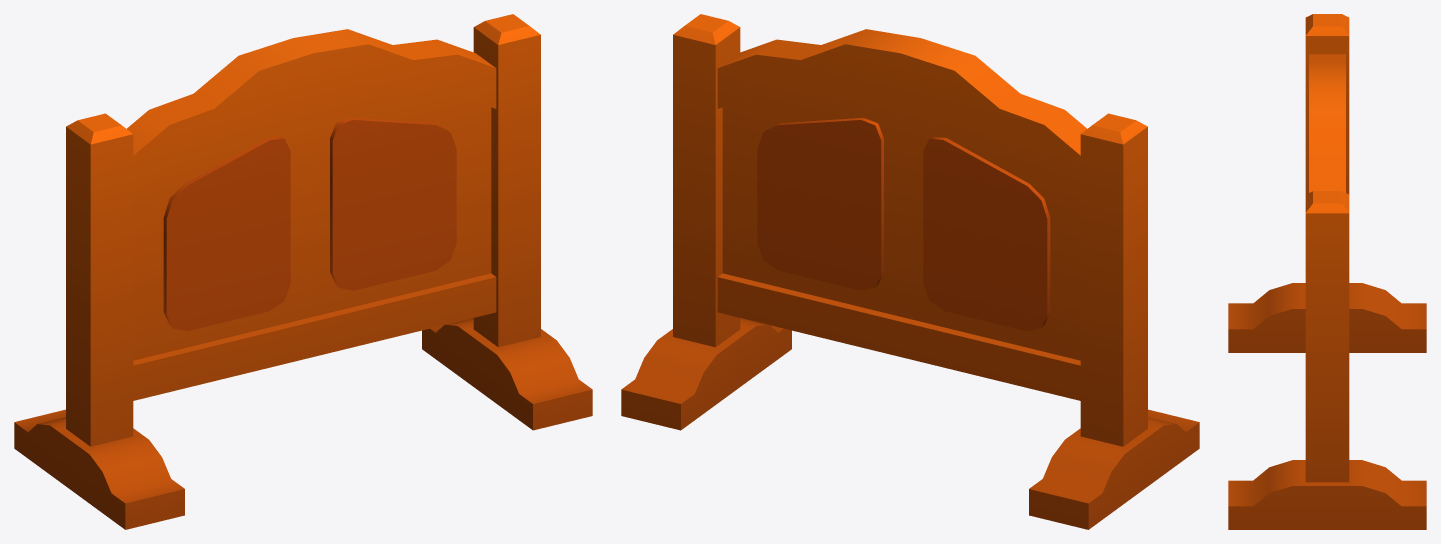
File: Panel_Devider_01.fbx
3 views of the same model, side by side, from view 1: azimuth 30°, elevation 25°; view 2: azimuth 150°, elevation 25°; view 3: azimuth 270°, elevation 25° (orthographic). The views are drawn at different scales.
Parts seen in each view (by area): view 1: Panel_Devider_01; view 2: Panel_Devider_01; view 3: Panel_Devider_01.
Boxes of the visible parts, x1=… form: Panel_Devider_01: x1=14, y1=14, x2=592, y2=529; Panel_Devider_01: x1=621, y1=14, x2=1199, y2=529; Panel_Devider_01: x1=1228, y1=14, x2=1426, y2=529.
Bounding box in the file's own units: 184 × 145 × 75.83.
